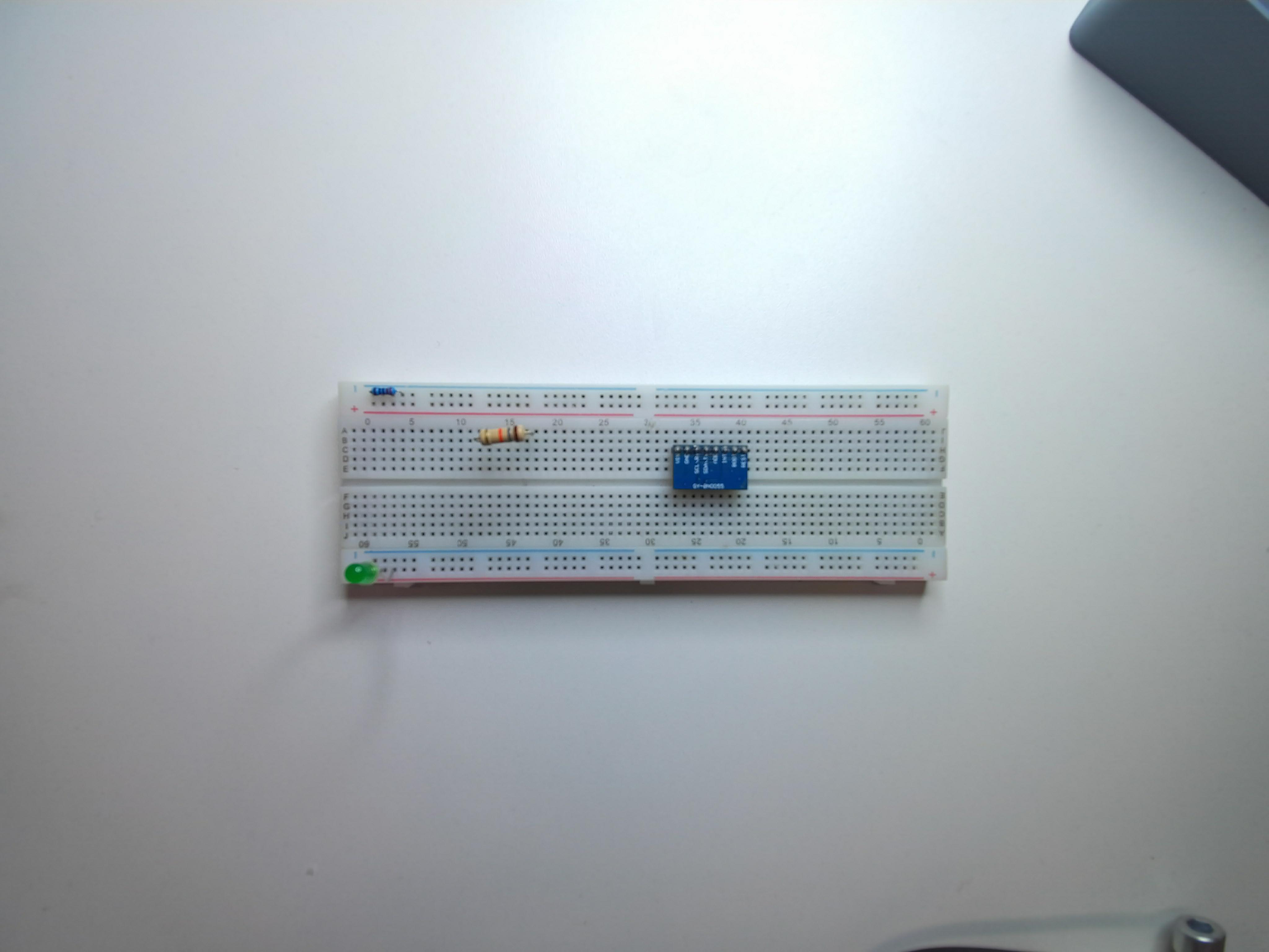base: (337, 381, 953, 593)
blue-board: (672, 444, 750, 499)
green-led: (339, 555, 382, 587)
resistor-big: (479, 424, 528, 445)
resistor-small: (369, 383, 397, 397)
